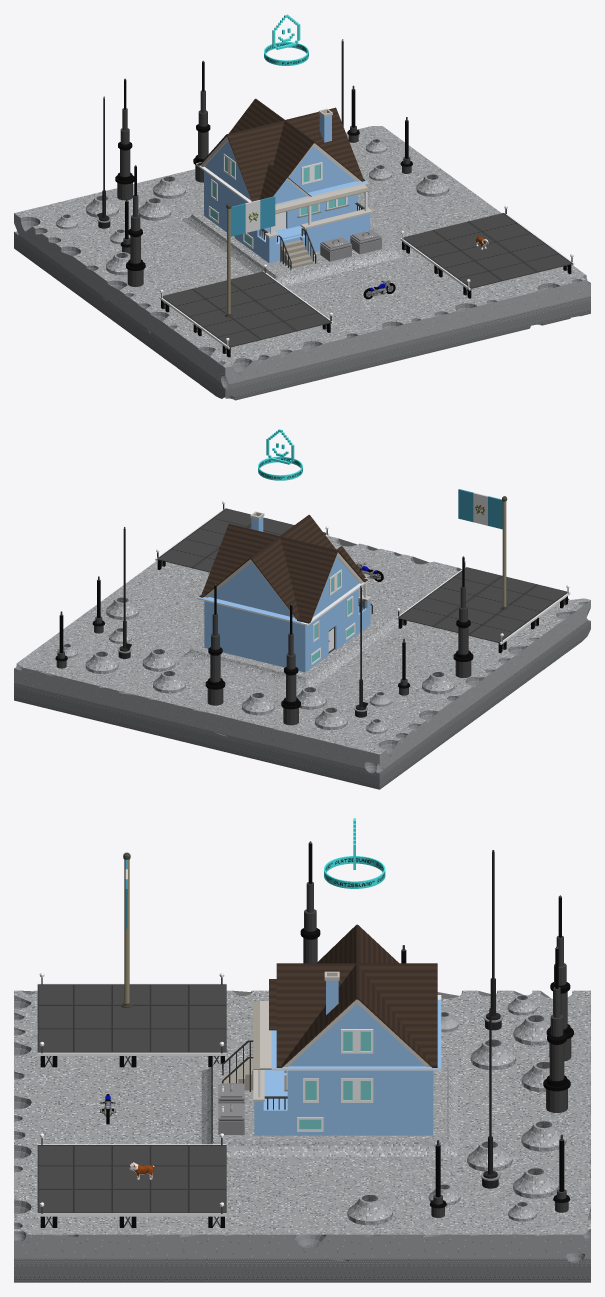
The picture shows the model from 3 angles, top to bottom: view 1: azimuth 30°, elevation 25°; view 2: azimuth 150°, elevation 25°; view 3: azimuth 270°, elevation 25°; orthographic projection. The views are drawn at different scales.
Visible parts, largest first — view 1: Cube.027, Cube.1594, Cube.026, Cube.025, Cube.028, OBJRANDOM_GUATEMALAN_FLAG, Cylinder.021, Cylinder.020, Cylinder.017, TYPE_PREMIUM, Cube.029, Cube.030 (+3 smaller); view 2: Cube.027, Cube.1594, Cube.025, Cube.028, Cube.026, OBJRANDOM_GUATEMALAN_FLAG, Cylinder.017, Cylinder.021, Cylinder.020, TYPE_PREMIUM, Cylinder.030, Cylinder.029 (+7 smaller); view 3: Cube.027, Cube.1594, Cube.025, Cube.026, Cube.028, Cylinder.017, Cylinder.020, Cylinder.021, TYPE_PREMIUM, Cylinder.033, Cylinder.031, Cylinder.026 (+10 smaller).
Boxes of the visible parts, left/top/right/bottom form: Cube.027: left=14, top=126, right=590, bottom=400; Cube.1594: left=196, top=98, right=372, bottom=269; Cube.026: left=400, top=205, right=574, bottom=298; Cube.025: left=159, top=264, right=333, bottom=357; Cube.028: left=182, top=211, right=403, bottom=286; OBJRANDOM_GUATEMALAN_FLAG: left=224, top=196, right=275, bottom=317; Cylinder.021: left=126, top=165, right=145, bottom=286; Cylinder.020: left=115, top=78, right=134, bottom=200; Cylinder.017: left=193, top=60, right=210, bottom=182; TYPE_PREMIUM: left=264, top=14, right=308, bottom=65; Cube.029: left=320, top=237, right=351, bottom=261; Cube.030: left=350, top=230, right=381, bottom=254; Cube.027: left=14, top=536, right=590, bottom=789; Cube.1594: left=197, top=511, right=372, bottom=672; Cube.025: left=396, top=560, right=570, bottom=653; Cube.028: left=181, top=610, right=398, bottom=688; Cube.026: left=155, top=501, right=329, bottom=572; OBJRANDOM_GUATEMALAN_FLAG: left=458, top=489, right=508, bottom=609; Cylinder.017: left=205, top=583, right=225, bottom=705; Cylinder.021: left=453, top=556, right=473, bottom=677; Cylinder.020: left=281, top=603, right=300, bottom=725; TYPE_PREMIUM: left=258, top=429, right=302, bottom=480; Cylinder.030: left=142, top=648, right=175, bottom=671; Cylinder.029: left=153, top=670, right=185, bottom=693; Cube.027: left=14, top=990, right=590, bottom=1282; Cube.1594: left=222, top=924, right=441, bottom=1135; Cube.025: left=37, top=973, right=226, bottom=1067; Cube.026: left=37, top=1133, right=226, bottom=1227; Cube.028: left=201, top=1063, right=457, bottom=1156; Cylinder.017: left=543, top=946, right=570, bottom=1112; Cylinder.020: left=546, top=895, right=573, bottom=1061; Cylinder.021: left=300, top=841, right=320, bottom=963; TYPE_PREMIUM: left=324, top=818, right=385, bottom=888; Cylinder.033: left=347, top=1194, right=392, bottom=1225; Cylinder.031: left=513, top=1167, right=558, bottom=1198; Cylinder.026: left=470, top=1038, right=516, bottom=1069.
Bounding box in the file's own units: 4000 × 2703 × 4000.
42 materials, 5 textured.
